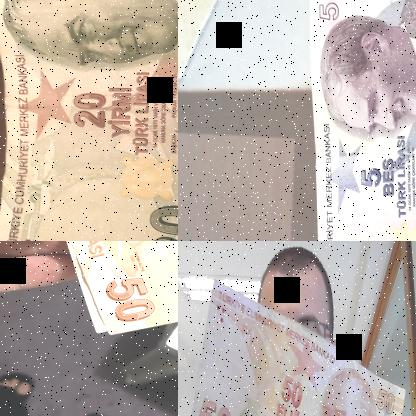5 TL: (0, 0, 177, 240)
